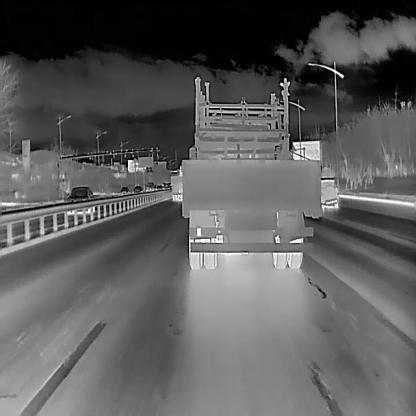car: (180, 111, 320, 268), (316, 175, 339, 209), (66, 185, 95, 209), (169, 163, 184, 202), (133, 184, 143, 195), (119, 184, 128, 196), (146, 181, 154, 193), (156, 184, 162, 192)
